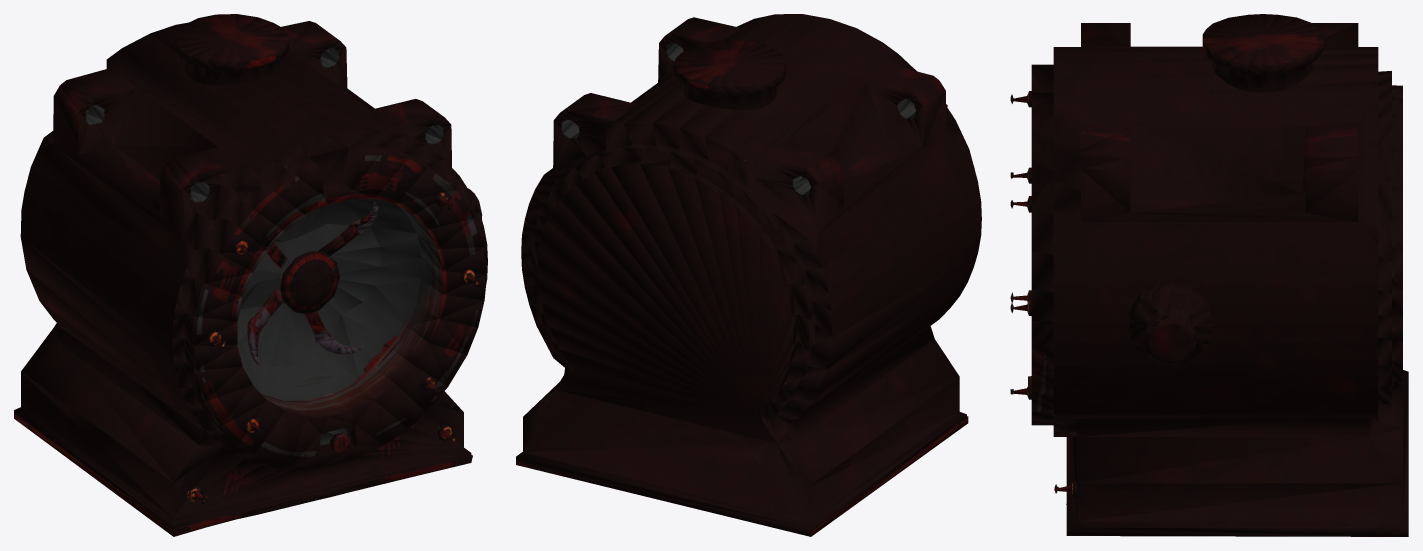
Rendered from wpn_tesla.glb.
3 views of the same model, side by side, from view 1: azimuth 30°, elevation 25°; view 2: azimuth 150°, elevation 25°; view 3: azimuth 270°, elevation 25° (orthographic). The views are drawn at different scales.
Parts seen in each view (by area): view 1: tripo_node_5264b5b5; view 2: tripo_node_5264b5b5; view 3: tripo_node_5264b5b5.
Boxes of the visible parts, x1,y1,x2,y2 form: tripo_node_5264b5b5: (14,14,487,536); tripo_node_5264b5b5: (516,14,981,536); tripo_node_5264b5b5: (1010,14,1408,536).
Bounding box in the file's own units: 0.9357 × 0.9979 × 0.8501.
1 material, 1 textured.
